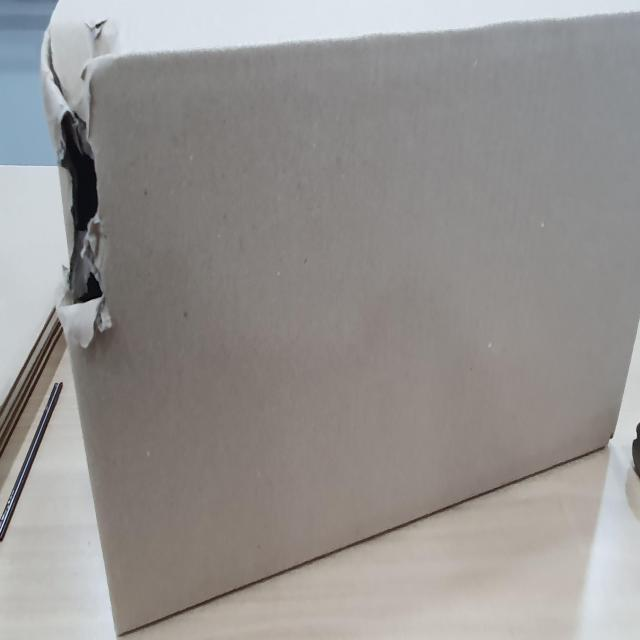damaged: (51, 88, 117, 335)
